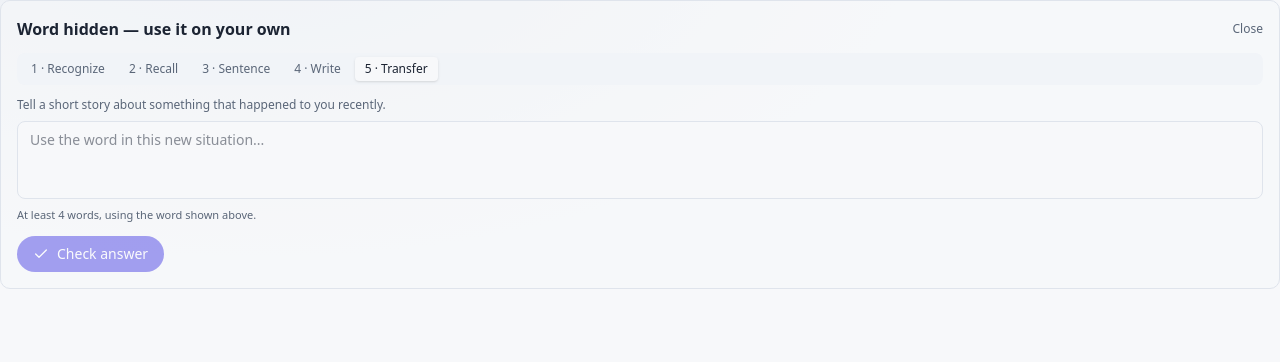
Test: WordDrill paso Transfer (V3.40) › un acierto envía el context_id, el slug de la superficie y avisa al padre
Type "Yesterday I walked by the river with my sister." into the text box named "Your answer".
click(640, 160); type("Yesterday I walked by the river with my sister.")  # box [17, 121, 1263, 199]
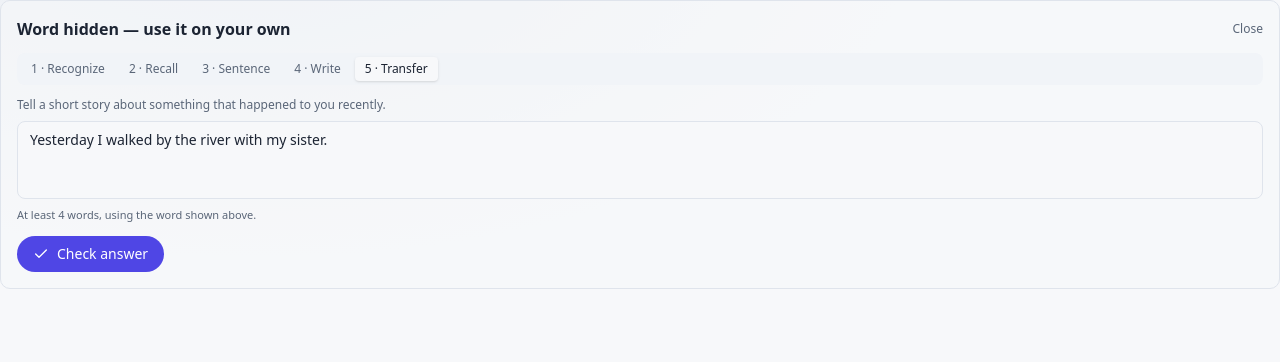
Click the button "Check answer".
click(91, 254)  # box [17, 236, 164, 272]
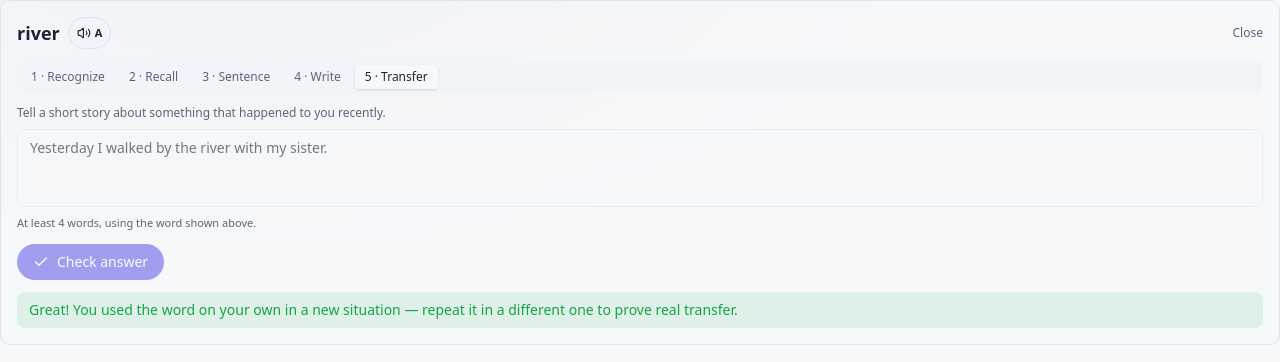
Now the text "used the word on your own in a new situation" is shown, box [29, 300, 738, 318]
